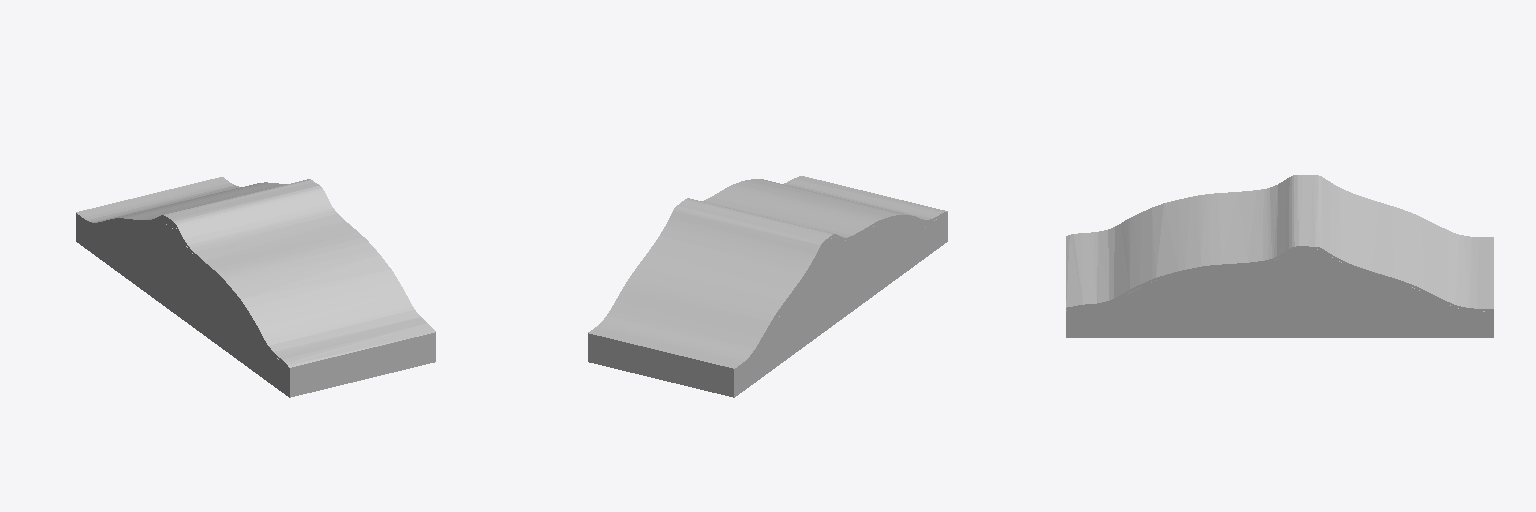
Rendered from ming.obj.
3 renders of one model, left to right at view 1: azimuth 30°, elevation 25°; view 2: azimuth 150°, elevation 25°; view 3: azimuth 270°, elevation 25°, orthographic.
Parts seen in each view (by area): view 1: object 33, object 88, object 145, object 89, object 122, object 193, object 54, object 215, object 236, object 171, object 36; view 2: object 33, object 145, object 121, object 89, object 122, object 193, object 54, object 215, object 236, object 171, object 36; view 3: object 33, object 146, object 90, object 123, object 194, object 55, object 237, object 216, object 172, object 37, object 112, object 166.
Part boxes in pixels (x1,y1,x2,y2): object 33: (76,177,435,367); object 88: (290,340,435,397); object 145: (171,243,283,392); object 89: (207,274,289,397); object 122: (76,221,177,246); object 193: (148,237,174,313); object 54: (76,216,289,375); object 215: (128,237,147,293); object 236: (77,240,127,278); object 171: (158,237,186,321); object 36: (76,213,289,370); object 33: (588,176,947,368); object 145: (830,245,942,315); object 121: (588,341,733,397); object 89: (866,219,947,254); object 122: (734,242,836,397); object 193: (807,274,832,343); object 54: (734,214,947,376); object 215: (787,288,806,358); object 236: (737,321,786,395); object 171: (817,260,845,324); object 36: (734,212,947,371); object 33: (1066,175,1493,308); object 146: (1075,270,1301,337); object 90: (1066,272,1231,337); object 123: (1289,254,1493,337); object 194: (1296,273,1349,337); object 55: (1066,249,1493,315); object 237: (1389,298,1491,337); object 216: (1348,280,1388,337); object 172: (1271,269,1328,337); object 37: (1066,246,1493,311); object 112: (1227,257,1292,290); object 166: (1233,271,1292,297).
Size of the model in its own units: 210 by 125 by 530.